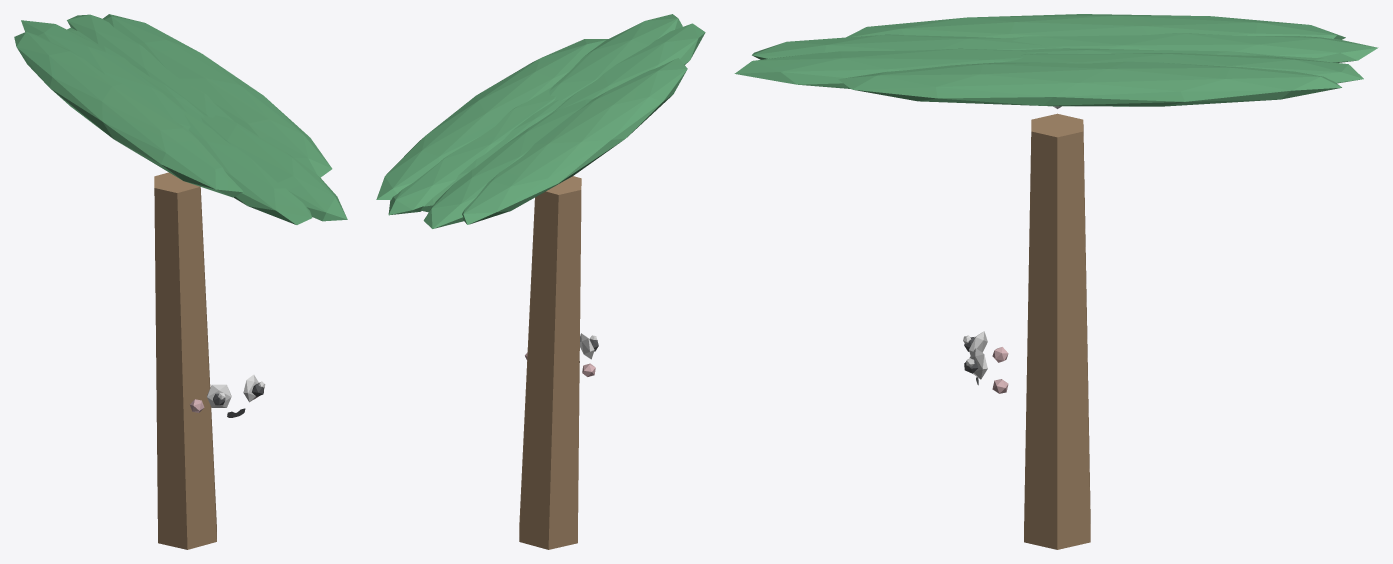
The model's file is roystonea-borinquena.glb.
3 views of the same model, side by side, from view 1: azimuth 30°, elevation 25°; view 2: azimuth 150°, elevation 25°; view 3: azimuth 270°, elevation 25° (orthographic). The views are drawn at different scales.
Parts seen in each view (by area): view 1: trunk, frond3, frond0, frond1, frond2, frond6, frond4, frond5; view 2: trunk, frond3, frond0, frond6, frond4, frond1, frond2, frond5; view 3: trunk, frond0, frond3, frond1, frond4, frond6, frond2, frond5.
Boxes of the visible parts, x1=… form: trunk: x1=154, y1=172, x2=216, y2=549; frond3: x1=14, y1=31, x2=243, y2=197; frond0: x1=103, y1=14, x2=332, y2=177; frond1: x1=201, y1=113, x2=347, y2=221; frond2: x1=179, y1=107, x2=312, y2=224; frond6: x1=67, y1=14, x2=233, y2=120; frond4: x1=21, y1=20, x2=190, y2=130; frond5: x1=67, y1=27, x2=204, y2=121; trunk: x1=519, y1=176, x2=581, y2=549; frond3: x1=462, y1=58, x2=687, y2=224; frond0: x1=376, y1=39, x2=607, y2=199; frond6: x1=388, y1=87, x2=556, y2=215; frond4: x1=423, y1=98, x2=593, y2=228; frond1: x1=549, y1=14, x2=682, y2=101; frond2: x1=550, y1=23, x2=705, y2=113; frond5: x1=421, y1=99, x2=567, y2=212; trunk: x1=1024, y1=113, x2=1090, y2=549; frond0: x1=838, y1=61, x2=1341, y2=106; frond3: x1=846, y1=14, x2=1345, y2=39; frond1: x1=734, y1=48, x2=1035, y2=88; frond4: x1=1005, y1=33, x2=1378, y2=62; frond6: x1=1000, y1=53, x2=1363, y2=83; frond2: x1=752, y1=34, x2=1063, y2=59; frond5: x1=1020, y1=48, x2=1330, y2=62.
Size of the model in its own units: 0.2308 by 0.63 by 0.752.
